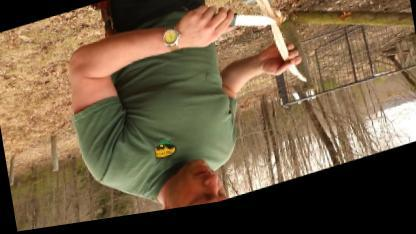knife: (186, 0, 282, 61)
